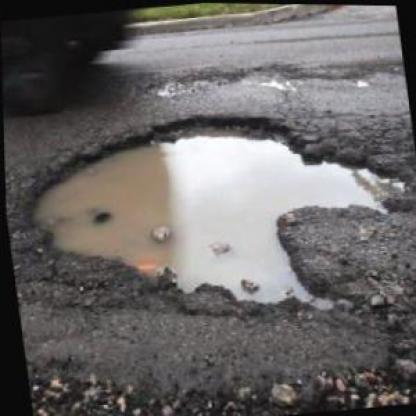pothole: (9, 83, 414, 347)
